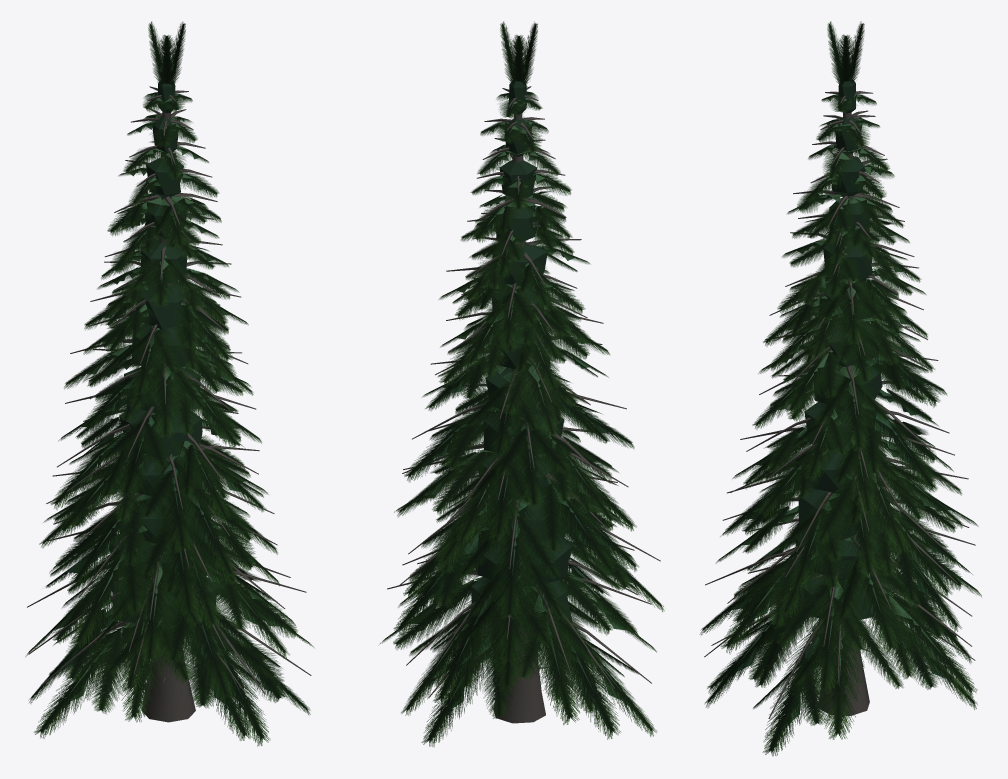
Rendered from Abeto_Verde.glb.
The picture shows the model from 3 angles, left to right: view 1: azimuth 30°, elevation 25°; view 2: azimuth 150°, elevation 25°; view 3: azimuth 270°, elevation 25°; orthographic projection.
Parts seen in each view (by area): view 1: Abeto_Verde; view 2: Abeto_Verde; view 3: Abeto_Verde.
Part boxes in pixels (x1=…): Abeto_Verde: x1=25, y1=21, x2=314, y2=746; Abeto_Verde: x1=379, y1=21, x2=664, y2=747; Abeto_Verde: x1=699, y1=21, x2=981, y2=756.
Size of the model in its own units: 6.44 by 15.34 by 6.03.
8 materials, 3 textured.
